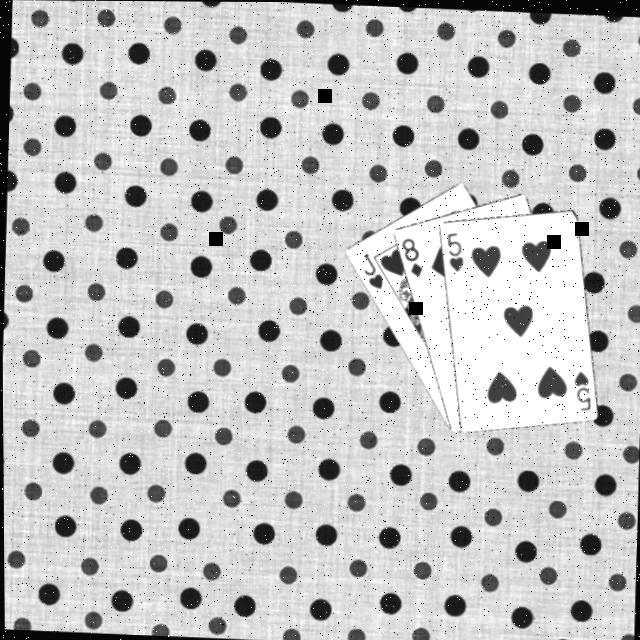5H: (566, 364, 592, 411), (440, 224, 464, 272)
8D: (394, 232, 424, 276)
JH: (356, 246, 384, 288)
